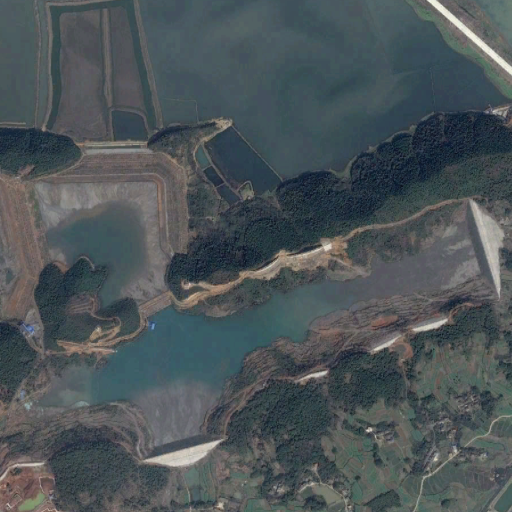tp: (32, 208, 512, 468), (30, 155, 187, 315)
